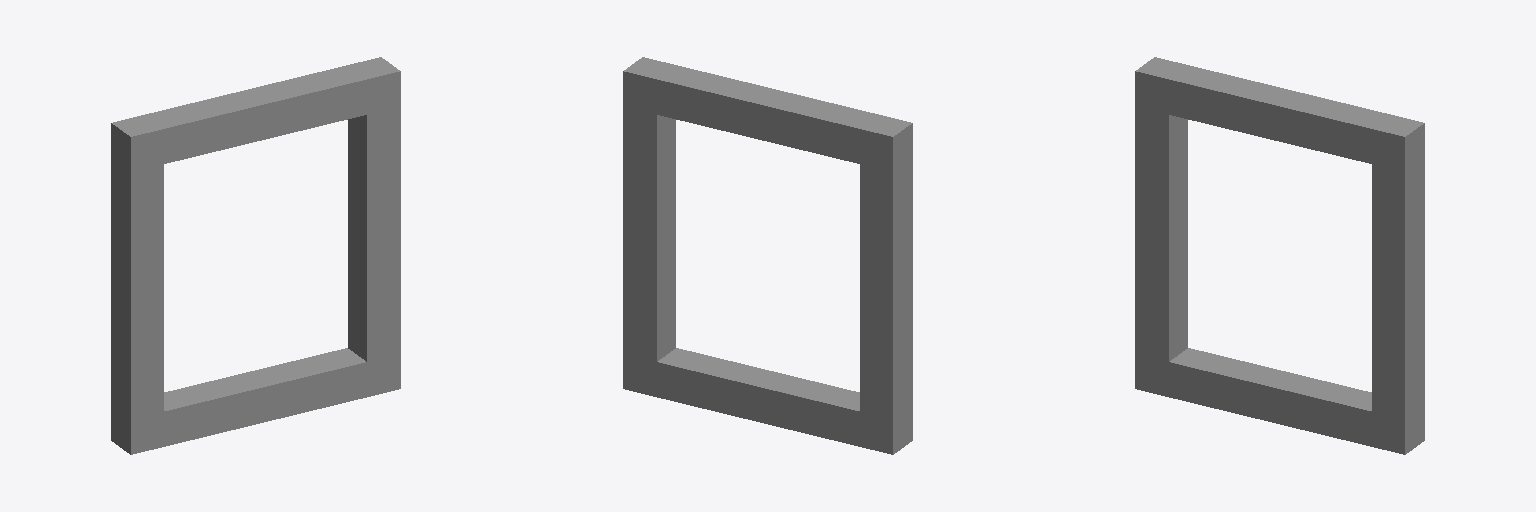
File: level.obj
3 views of the same model, side by side, from view 1: azimuth 30°, elevation 25°; view 2: azimuth 150°, elevation 25°; view 3: azimuth 330°, elevation 25° (orthographic).
Visible parts, largest first — view 1: rightWall_rightCube, leftWall_leftCube, topWall_topCube, bottomWall_bottomCube; view 2: rightWall_rightCube, leftWall_leftCube, topWall_topCube, bottomWall_bottomCube; view 3: leftWall_leftCube, rightWall_rightCube, topWall_topCube, bottomWall_bottomCube.
Part boxes in pixels (left/top/right/bottom): rightWall_rightCube: left=111, top=115, right=163, bottom=454; leftWall_leftCube: left=348, top=57, right=400, bottom=396; topWall_topCube: left=145, top=65, right=366, bottom=163; bottomWall_bottomCube: left=164, top=348, right=366, bottom=446; rightWall_rightCube: left=860, top=115, right=912, bottom=454; leftWall_leftCube: left=623, top=57, right=675, bottom=396; topWall_topCube: left=657, top=65, right=878, bottom=163; bottomWall_bottomCube: left=657, top=348, right=859, bottom=446; leftWall_leftCube: left=1372, top=115, right=1424, bottom=454; rightWall_rightCube: left=1135, top=57, right=1187, bottom=396; topWall_topCube: left=1169, top=65, right=1390, bottom=163; bottomWall_bottomCube: left=1169, top=348, right=1371, bottom=446.
Bounding box in the file's own units: 16 × 18 × 2.